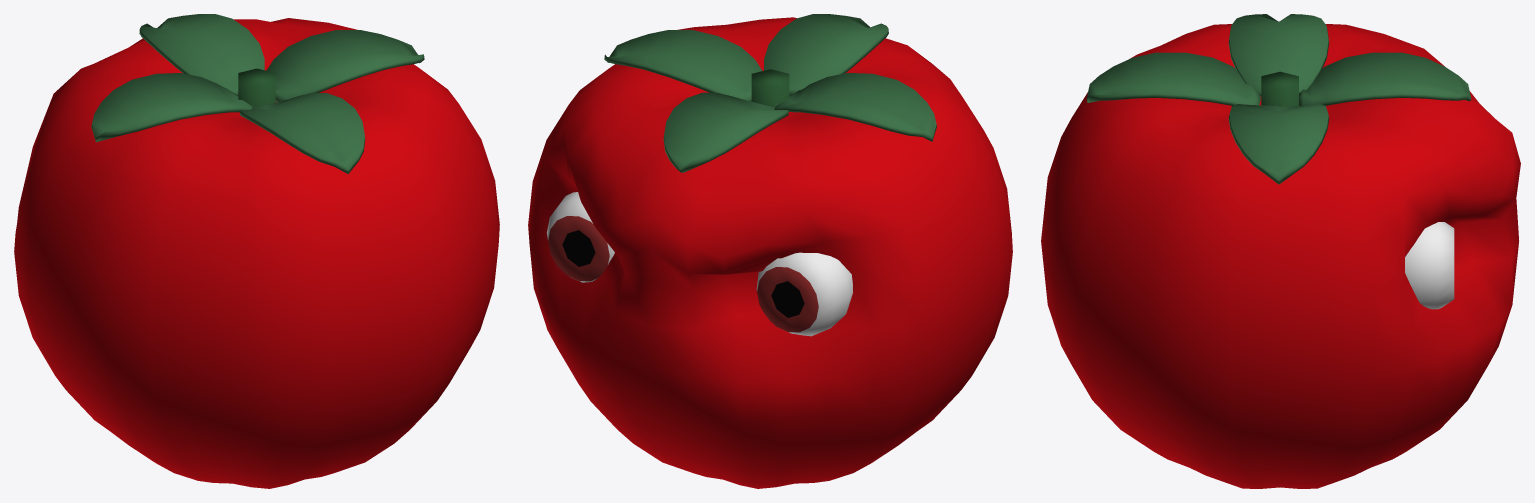
The model's file is TomatoFace.fbx.
The picture shows the model from 3 angles, left to right: view 1: azimuth 30°, elevation 25°; view 2: azimuth 150°, elevation 25°; view 3: azimuth 270°, elevation 25°; orthographic projection.
Parts seen in each view (by area): view 1: Sphere, Plane.001, Cylinder; view 2: Sphere, Plane.001, Sphere.002, Sphere.001, Cylinder; view 3: Sphere, Plane.001, Sphere.001, Cylinder.
Boxes of the visible parts, x1,y1,x2,y2 form: Sphere: (14,18,499,488); Plane.001: (91,14,424,174); Cylinder: (238,68,275,107); Sphere: (528,17,1012,488); Plane.001: (604,14,936,172); Sphere.002: (756,252,852,336); Sphere.001: (547,192,614,282); Cylinder: (751,69,789,107); Sphere: (1041,24,1520,488); Plane.001: (1086,14,1471,184); Sphere.001: (1405,222,1454,309); Cylinder: (1261,71,1298,106).
Bounding box in the file's own units: 91.45 × 91.11 × 83.72.
